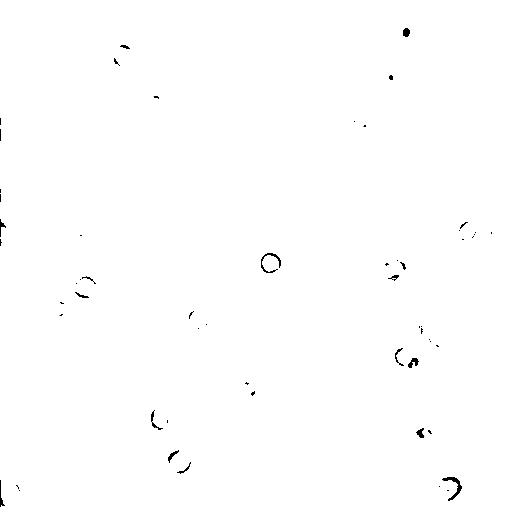micro-algae: (28, 124, 75, 175), (293, 7, 329, 42), (69, 222, 105, 252), (429, 473, 464, 503), (392, 16, 423, 46), (252, 427, 281, 458), (99, 93, 128, 123), (164, 448, 194, 477), (378, 61, 405, 93), (380, 255, 410, 283), (144, 282, 175, 309), (487, 214, 512, 247), (148, 403, 173, 433), (2, 477, 24, 511), (394, 344, 422, 370), (71, 274, 100, 299), (152, 236, 180, 261), (258, 251, 284, 276), (375, 1, 405, 21), (404, 316, 426, 343), (187, 308, 210, 332), (456, 219, 479, 242), (427, 325, 449, 349), (112, 44, 134, 67), (350, 106, 371, 130), (238, 381, 262, 401), (44, 299, 69, 318), (414, 421, 436, 442), (266, 345, 286, 364), (1, 118, 13, 139), (2, 220, 10, 244), (408, 357, 420, 369)
